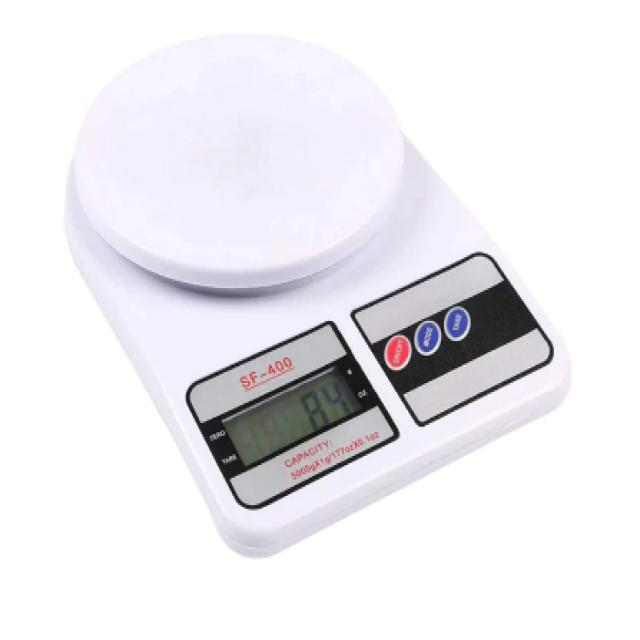4: (319, 377, 353, 413)
8: (295, 386, 332, 433)
screen: (219, 364, 366, 444)
